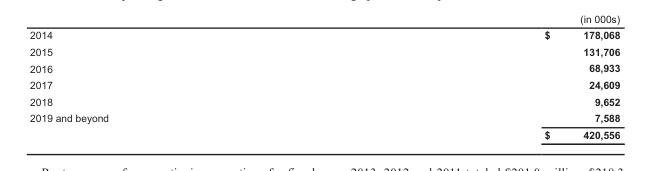table: (29, 29, 619, 140)
table column: (29, 29, 325, 140), (325, 29, 619, 140)
table row: (29, 59, 619, 76), (29, 92, 619, 109), (29, 109, 619, 126), (29, 43, 619, 59), (29, 76, 619, 92), (29, 29, 619, 43), (29, 126, 619, 140)
